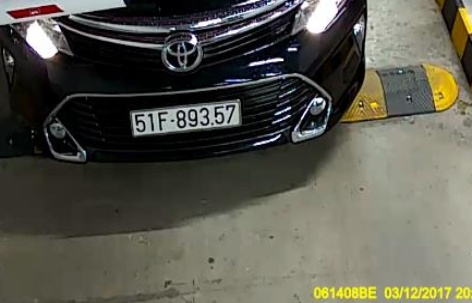plate: (126, 97, 246, 137)
